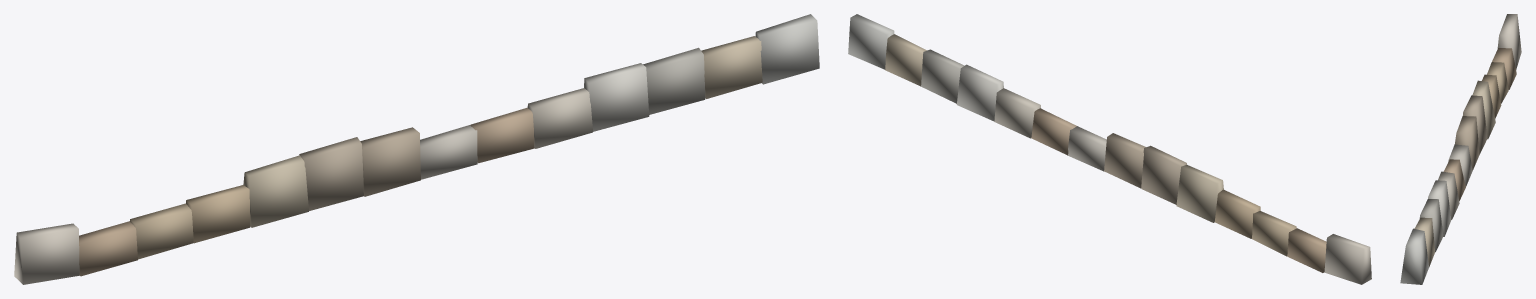
Rendered from farm_30_23_far.glb.
3 views of the same model, side by side, from view 1: azimuth 30°, elevation 25°; view 2: azimuth 150°, elevation 25°; view 3: azimuth 270°, elevation 25° (orthographic). The views are drawn at different scales.
Parts seen in each view (by area): view 1: geometry_0; view 2: geometry_0; view 3: geometry_0.
Boxes of the visible parts, box(x1,y1,x2,y2) form: geometry_0: box(14, 14, 819, 284); geometry_0: box(848, 14, 1371, 284); geometry_0: box(1400, 14, 1521, 284).
Bounding box in the file's own units: 21.93 × 3.63 × 3.72.
